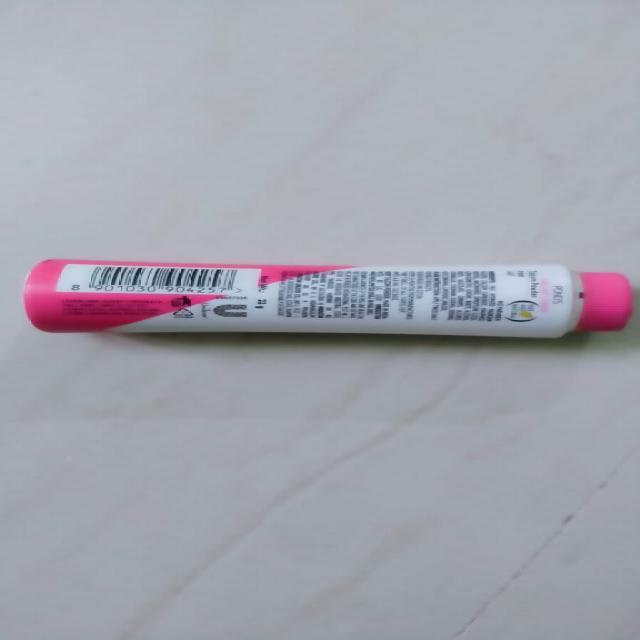powder: (0, 255, 640, 352)
